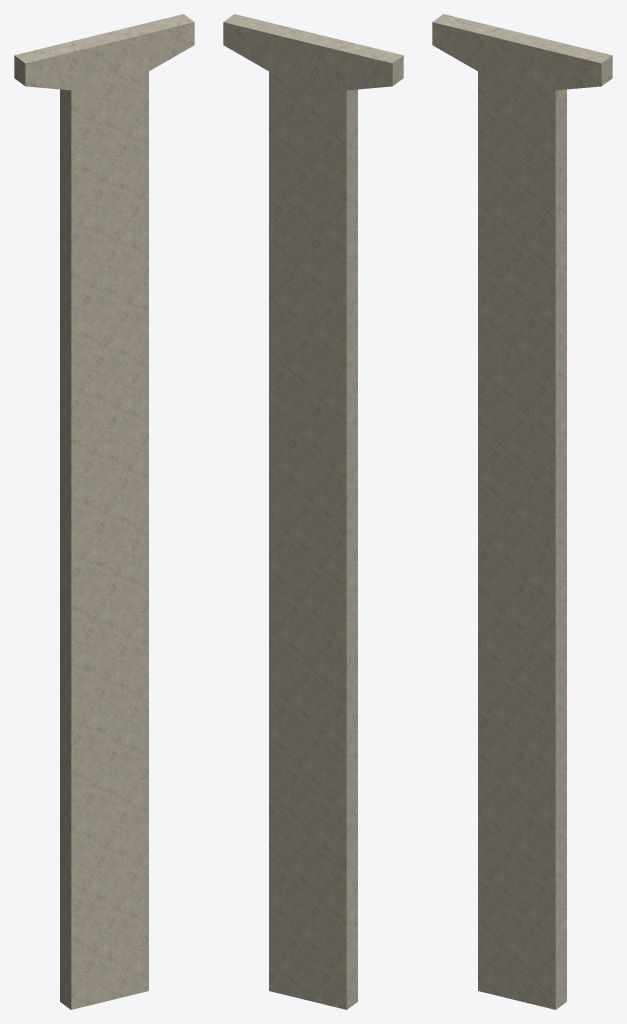
File: BridgePillar5-6L.FBX
The picture shows the model from 3 angles, left to right: view 1: azimuth 30°, elevation 25°; view 2: azimuth 150°, elevation 25°; view 3: azimuth 330°, elevation 25°; orthographic projection.
Parts seen in each view (by area): view 1: BridgePillar5-6L; view 2: BridgePillar5-6L; view 3: BridgePillar5-6L.
Part boxes in pixels (bbox=[...]): BridgePillar5-6L: bbox=[14, 14, 194, 1009]; BridgePillar5-6L: bbox=[223, 14, 403, 1009]; BridgePillar5-6L: bbox=[432, 14, 612, 1009].
Bounding box in the file's own units: 37 × 200 × 4.22.
